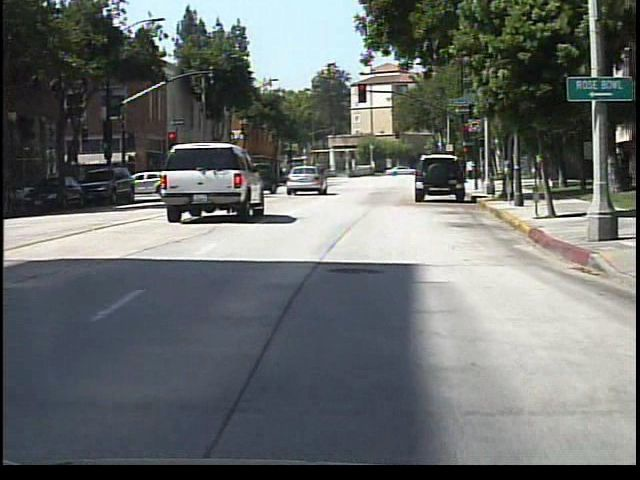person: (314, 157, 334, 195), (532, 154, 548, 191), (466, 158, 476, 181)
